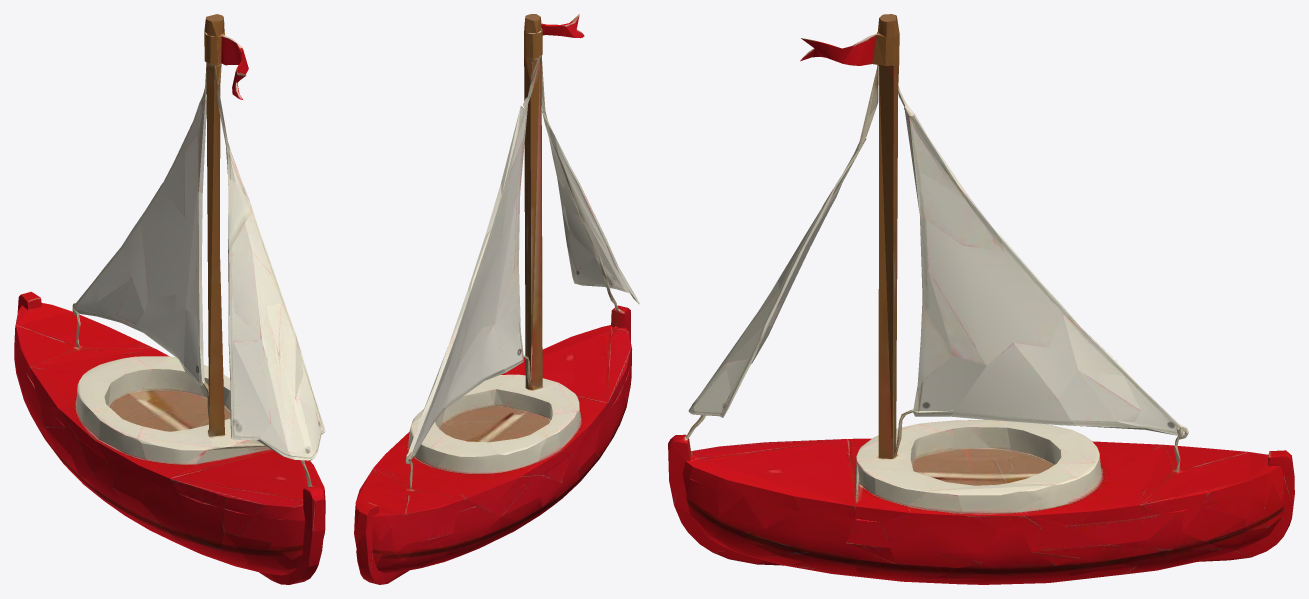
Rendered from sailboat.glb.
3 renders of one model, left to right at view 1: azimuth 30°, elevation 25°; view 2: azimuth 150°, elevation 25°; view 3: azimuth 270°, elevation 25°, orthographic. The views are drawn at different scales.
Bounding box in the file's own units: 0.2787 × 0.9 × 0.9283.
Materials: 1 (1 with a texture image).
